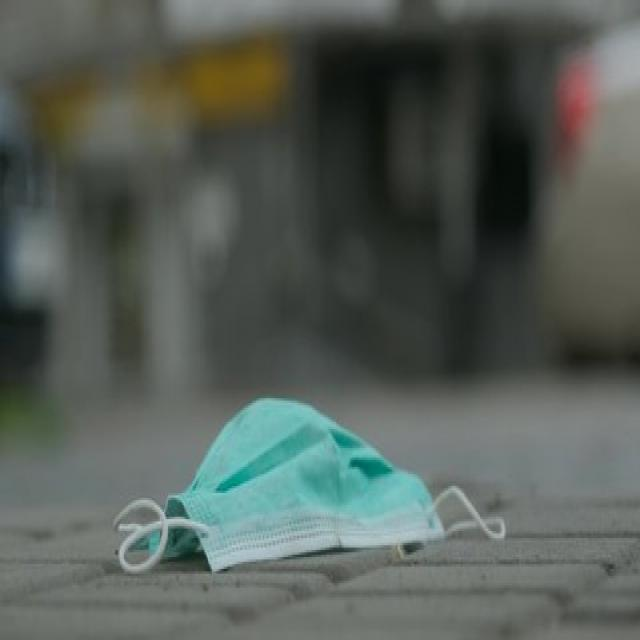non-organic waste: (115, 398, 504, 583)
